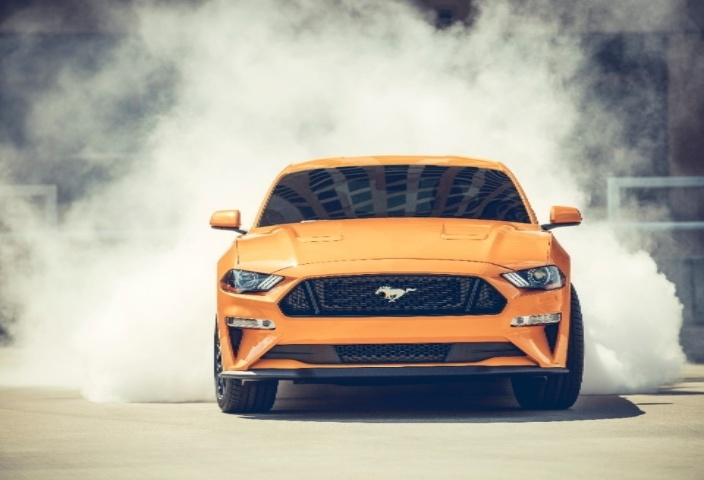car: (181, 139, 597, 423)
